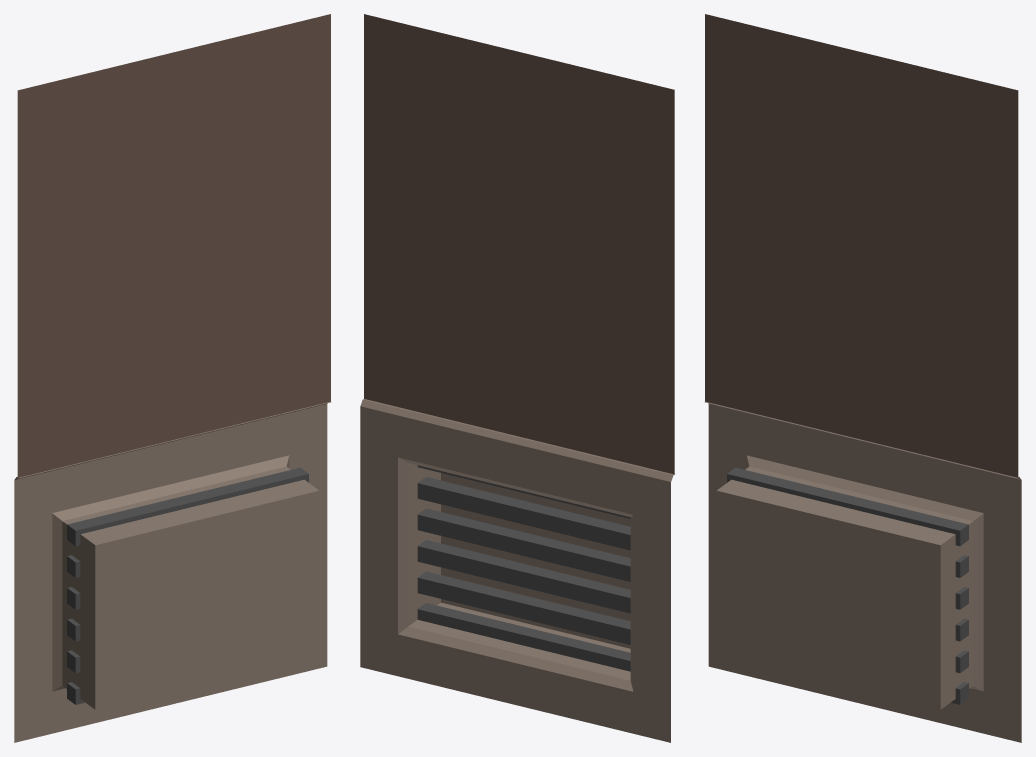
Rendered from pared_3.fbx.
3 renders of one model, left to right at view 1: azimuth 30°, elevation 25°; view 2: azimuth 150°, elevation 25°; view 3: azimuth 330°, elevation 25°, orthographic.
Parts seen in each view (by area): view 1: base1, pCube3, pCube16; view 2: base1, pCube3, pCube18, pCube19, pCube20, pCube17, pCube21, pCube16; view 3: base1, pCube3, pCube16.
Boxes of the visible parts, box(x1,y1,x2,y2) form: base1: box(17, 14, 330, 477); pCube3: box(14, 401, 331, 742); pCube16: box(67, 467, 308, 546); base1: box(364, 14, 674, 474); pCube3: box(360, 399, 674, 742); pCube18: box(417, 508, 630, 581); pCube19: box(417, 540, 630, 613); pCube20: box(417, 571, 630, 644); pCube17: box(417, 477, 630, 550); pCube21: box(417, 603, 630, 671); pCube16: box(417, 465, 630, 518); base1: box(705, 14, 1018, 477); pCube3: box(704, 401, 1021, 742); pCube16: box(727, 467, 968, 546).
Size of the model in its own units: 0.01 by 0.02 by 0.00203.
